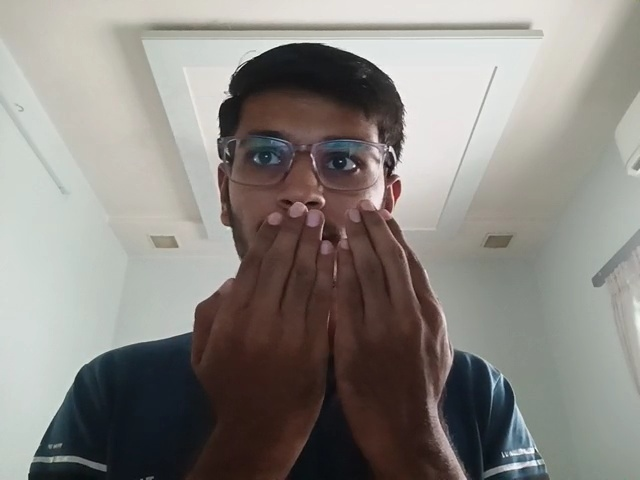Thank You: (185, 195, 463, 451)
